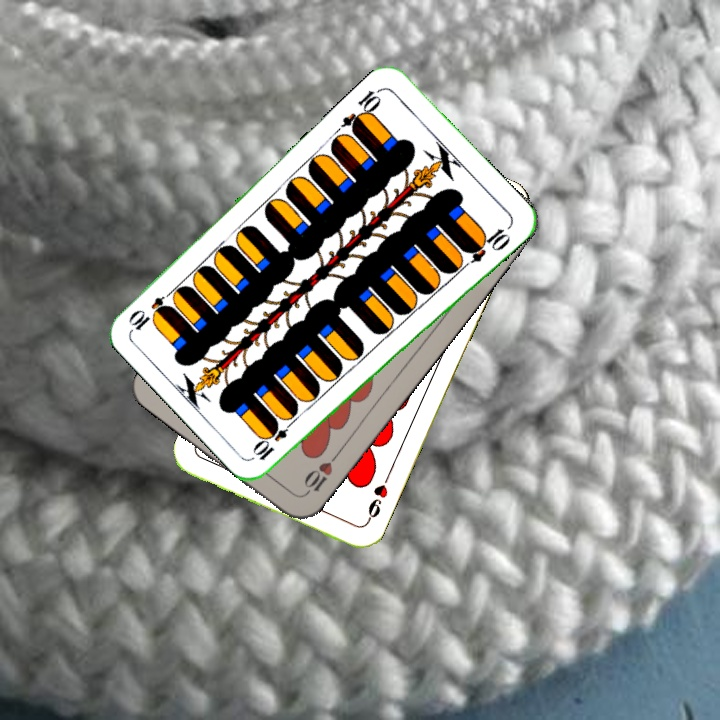E10: (338, 84, 385, 136), (250, 414, 298, 463)
H10: (299, 449, 341, 499)
H9: (361, 470, 393, 526)
